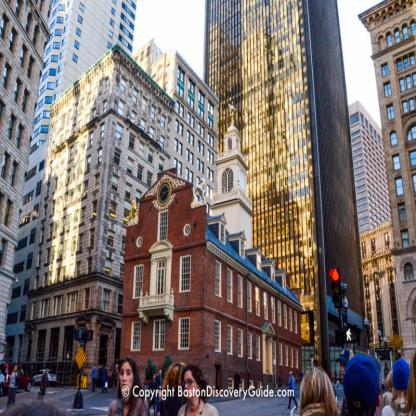State House: (109, 84, 313, 408)
